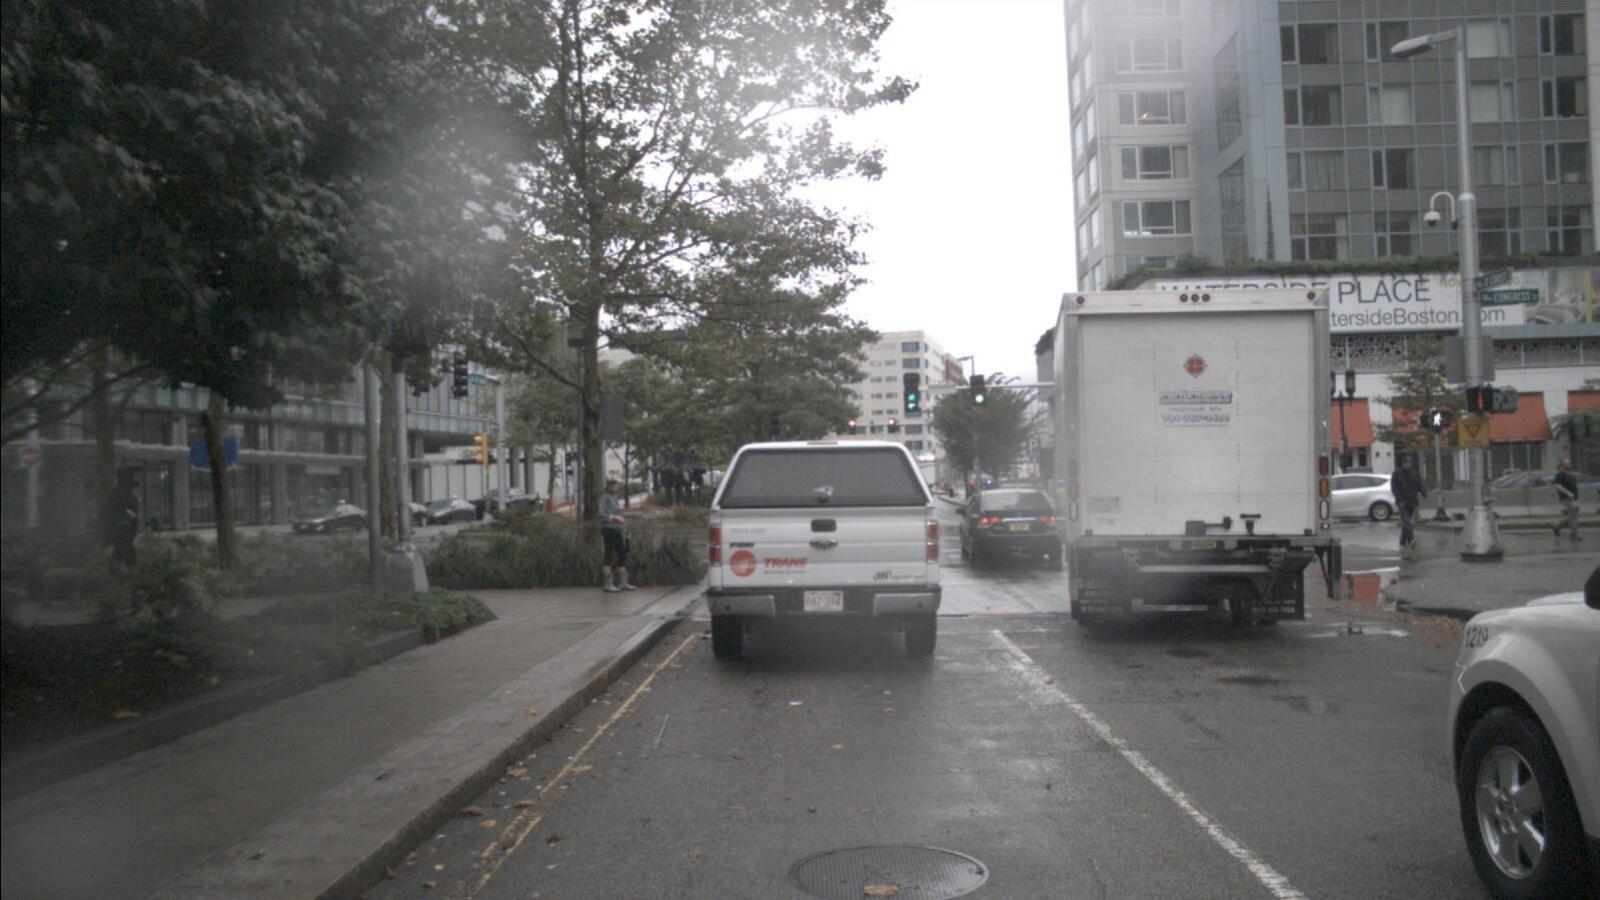human.pedestrian.adult-pedestrian.moving: (103, 465, 146, 612), (1390, 455, 1430, 550), (1548, 457, 1583, 542)
human.pedestrian.adult-pedestrian.standing: (596, 475, 637, 594)
